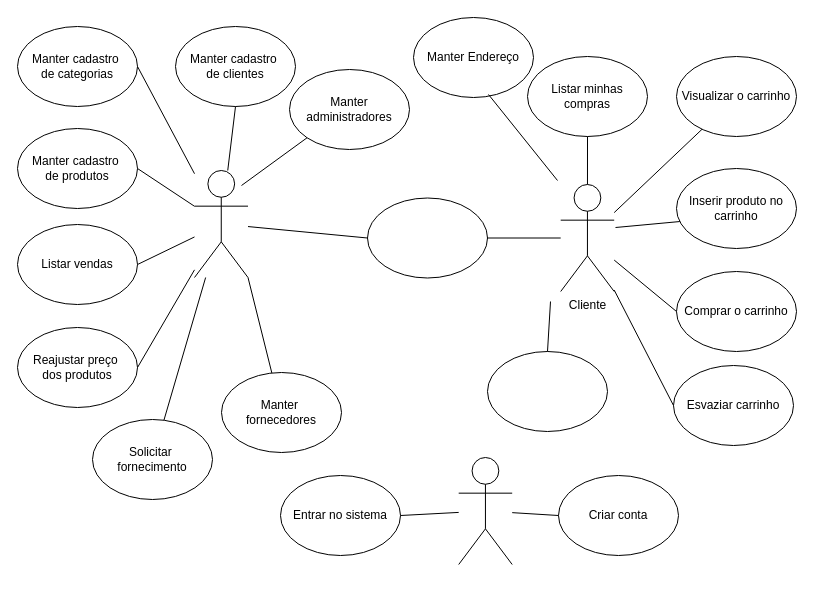
Some shapes in this 814 by 603 pixel diagram are drawn without their labels. The centre of each missing label's shape, as x and y in pixels:
"Admin" belongs at point 221,224.
"Listar produto" belongs at point 547,391.
"Sair do sistema" belongs at point 427,237.
"Visitante" belongs at point 485,510.
